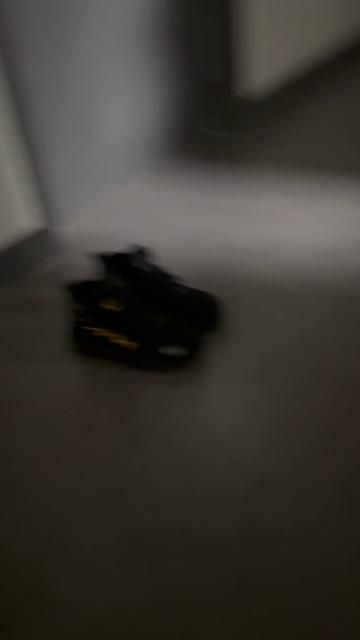shoe_worn: (61, 278, 203, 374), (92, 245, 226, 342)
